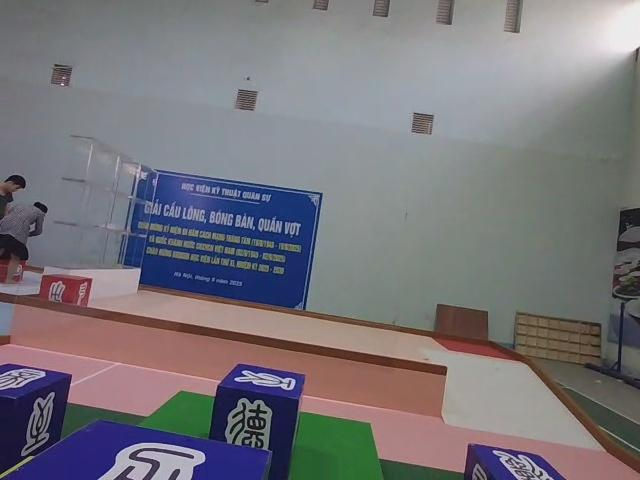R2 Fake Blue: (210, 365, 307, 480), (0, 365, 70, 480), (459, 446, 571, 480)
